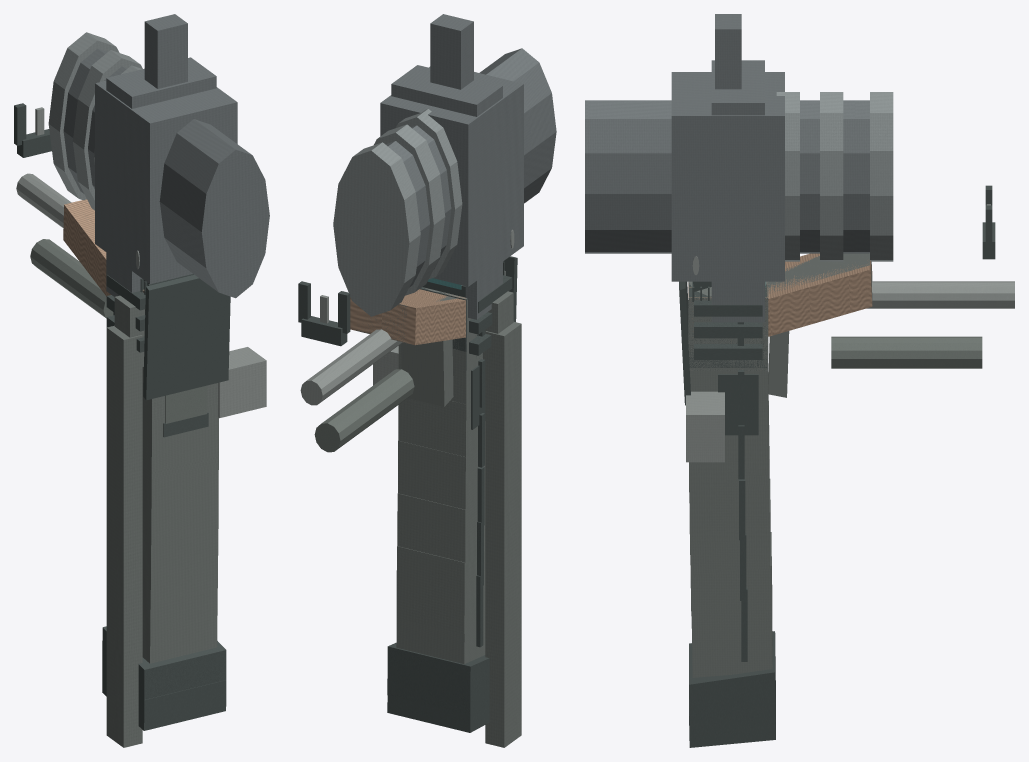
The model's file is weapon_m14.glb.
The picture shows the model from 3 angles, left to right: view 1: azimuth 30°, elevation 25°; view 2: azimuth 150°, elevation 25°; view 3: azimuth 270°, elevation 25°; orthographic projection. The views are drawn at different scales.
Visible parts, largest first — view 1: weapon_m14__L0_mount_optic__prism2, weapon_m14__L0_mount_optic__scope6, weapon_m14__L0_mount__m14_mount, weapon_m14__L0_magazine__m14_20, weapon_m14__L1_magazine__m14_20, weapon_m14__L1_mount_optic__prism2, weapon_m14__L1_mount_optic__scope6, weapon_m14__L1_mount__m14_mount, weapon_m14__L0_stock__m14_stock, weapon_m14__L1_stock__m14_stock, weapon_m14__L0_body, weapon_m14__L1_body (+13 smaller); view 2: weapon_m14__L0_magazine__m14_10, weapon_m14__L0_mount_optic__scope6, weapon_m14__L0_mount_optic__prism2, weapon_m14__L1_magazine__m14_10, weapon_m14__L1_mount_optic__scope6, weapon_m14__L1_mount__m14_mount, weapon_m14__L1_mount_optic__prism2, weapon_m14__L0_mount__m14_mount, weapon_m14__L0_body, weapon_m14__L1_body, weapon_m14__L0_magazine__m14_20, weapon_m14__L0_mount_optic__dot_tube (+11 smaller); view 3: weapon_m14__L0_mount_optic__prism2, weapon_m14__L0_mount_optic__scope6, weapon_m14__L1_mount_optic__prism2, weapon_m14__L1_magazine__m14_10, weapon_m14__L0_magazine__m14_10, weapon_m14__L0_body, weapon_m14__L0_magazine__m14_20, weapon_m14__L0_mount_optic__scope4, weapon_m14__L1_mount_optic__scope6, weapon_m14__L1_magazine__m14_20, weapon_m14__L0_mount_optic__dot_tube, weapon_m14__L0_stock__m14_stock (+13 smaller).
Part boxes in pixels (x1=…): weapon_m14__L0_mount_optic__prism2: x1=73, y1=50, x2=236, y2=280; weapon_m14__L0_mount_optic__scope6: x1=49, y1=32, x2=268, y2=295; weapon_m14__L0_mount__m14_mount: x1=107, y1=300, x2=144, y2=743; weapon_m14__L0_magazine__m14_20: x1=102, y1=292, x2=225, y2=728; weapon_m14__L1_magazine__m14_20: x1=102, y1=383, x2=226, y2=730; weapon_m14__L1_mount_optic__prism2: x1=73, y1=50, x2=237, y2=284; weapon_m14__L1_mount_optic__scope6: x1=48, y1=32, x2=269, y2=298; weapon_m14__L1_mount__m14_mount: x1=106, y1=295, x2=144, y2=747; weapon_m14__L0_stock__m14_stock: x1=64, y1=205, x2=229, y2=399; weapon_m14__L1_stock__m14_stock: x1=63, y1=199, x2=230, y2=400; weapon_m14__L0_body: x1=14, y1=103, x2=207, y2=435; weapon_m14__L1_body: x1=14, y1=103, x2=208, y2=437; weapon_m14__L0_magazine__m14_10: x1=388, y1=331, x2=489, y2=711; weapon_m14__L0_mount_optic__scope6: x1=334, y1=48, x2=549, y2=313; weapon_m14__L0_mount_optic__prism2: x1=376, y1=72, x2=523, y2=291; weapon_m14__L1_magazine__m14_10: x1=387, y1=344, x2=489, y2=715; weapon_m14__L1_mount_optic__scope6: x1=333, y1=48, x2=556, y2=316; weapon_m14__L1_mount__m14_mount: x1=420, y1=288, x2=521, y2=747; weapon_m14__L1_mount_optic__prism2: x1=374, y1=66, x2=523, y2=295; weapon_m14__L0_mount__m14_mount: x1=483, y1=291, x2=521, y2=743; weapon_m14__L0_body: x1=299, y1=231, x2=513, y2=451; weapon_m14__L1_body: x1=298, y1=229, x2=514, y2=452; weapon_m14__L0_magazine__m14_20: x1=388, y1=301, x2=489, y2=730; weapon_m14__L0_mount_optic__dot_tube: x1=398, y1=14, x2=473, y2=341; weapon_m14__L0_mount_optic__prism2: x1=662, y1=72, x2=842, y2=278; weapon_m14__L0_mount_optic__scope6: x1=586, y1=92, x2=892, y2=261; weapon_m14__L1_mount_optic__prism2: x1=662, y1=72, x2=843, y2=281; weapon_m14__L1_magazine__m14_10: x1=688, y1=298, x2=775, y2=734; weapon_m14__L0_magazine__m14_10: x1=689, y1=305, x2=775, y2=730; weapon_m14__L0_body: x1=689, y1=186, x2=1014, y2=414; weapon_m14__L0_magazine__m14_20: x1=689, y1=304, x2=775, y2=745; weapon_m14__L0_mount_optic__scope4: x1=634, y1=100, x2=819, y2=253; weapon_m14__L1_mount_optic__scope6: x1=585, y1=92, x2=893, y2=261; weapon_m14__L1_magazine__m14_20: x1=689, y1=322, x2=775, y2=747; weapon_m14__L0_mount_optic__dot_tube: x1=689, y1=14, x2=798, y2=367; weapon_m14__L0_stock__m14_stock: x1=679, y1=253, x2=871, y2=401.
Size of the model in its own units: 2.02 by 9.99 by 5.38.
Materials: 3 (3 with a texture image).
